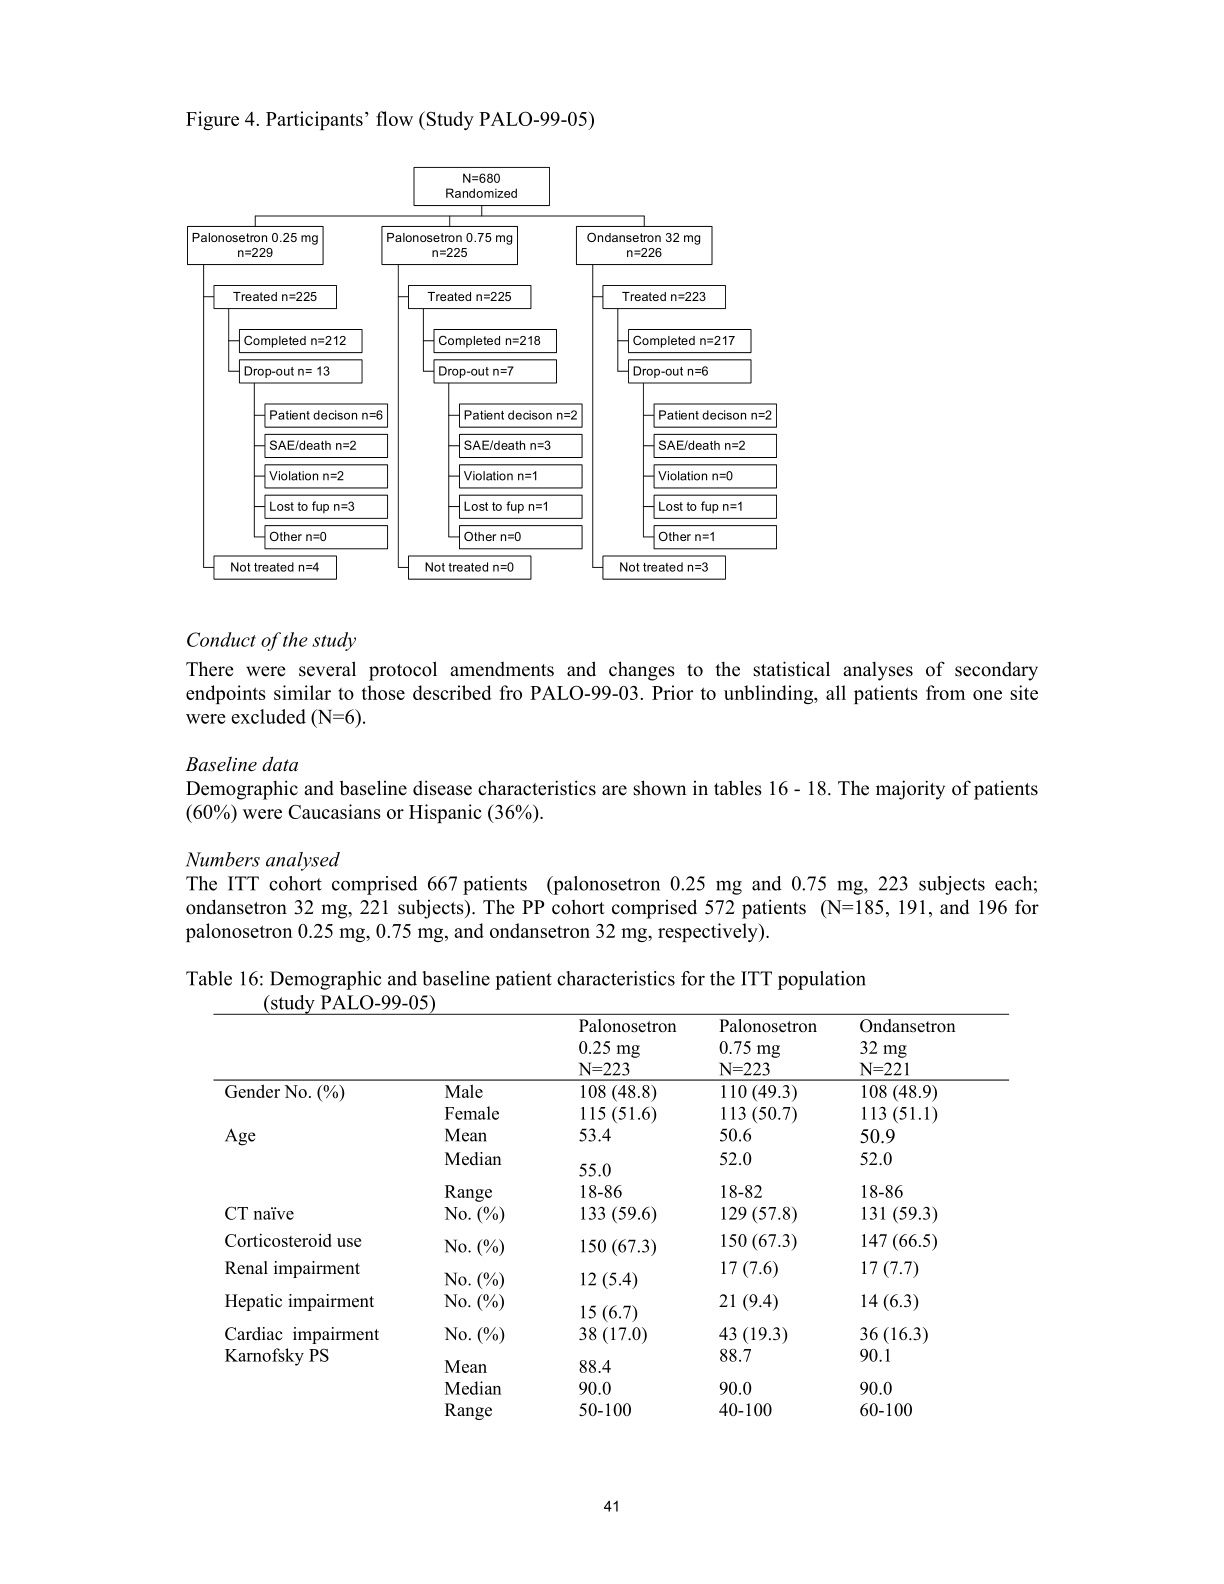partial_lined_merged_cells: (210, 1011, 1012, 1422)
